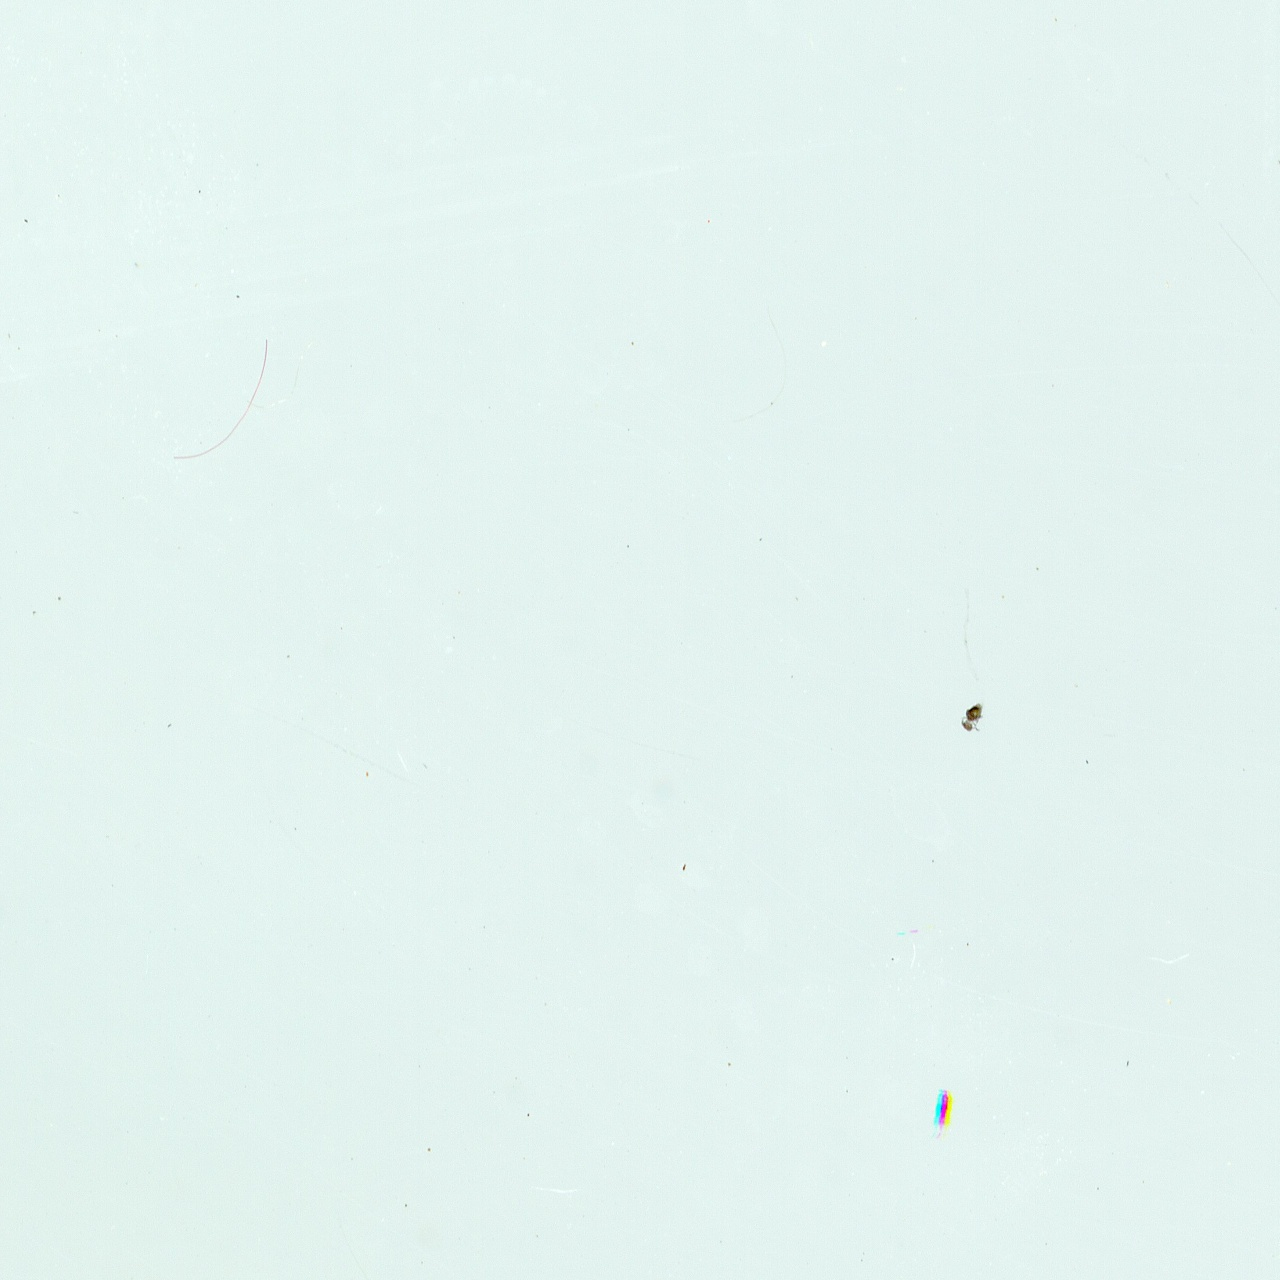arthropod: (924, 1081, 962, 1148), (960, 697, 987, 735)
